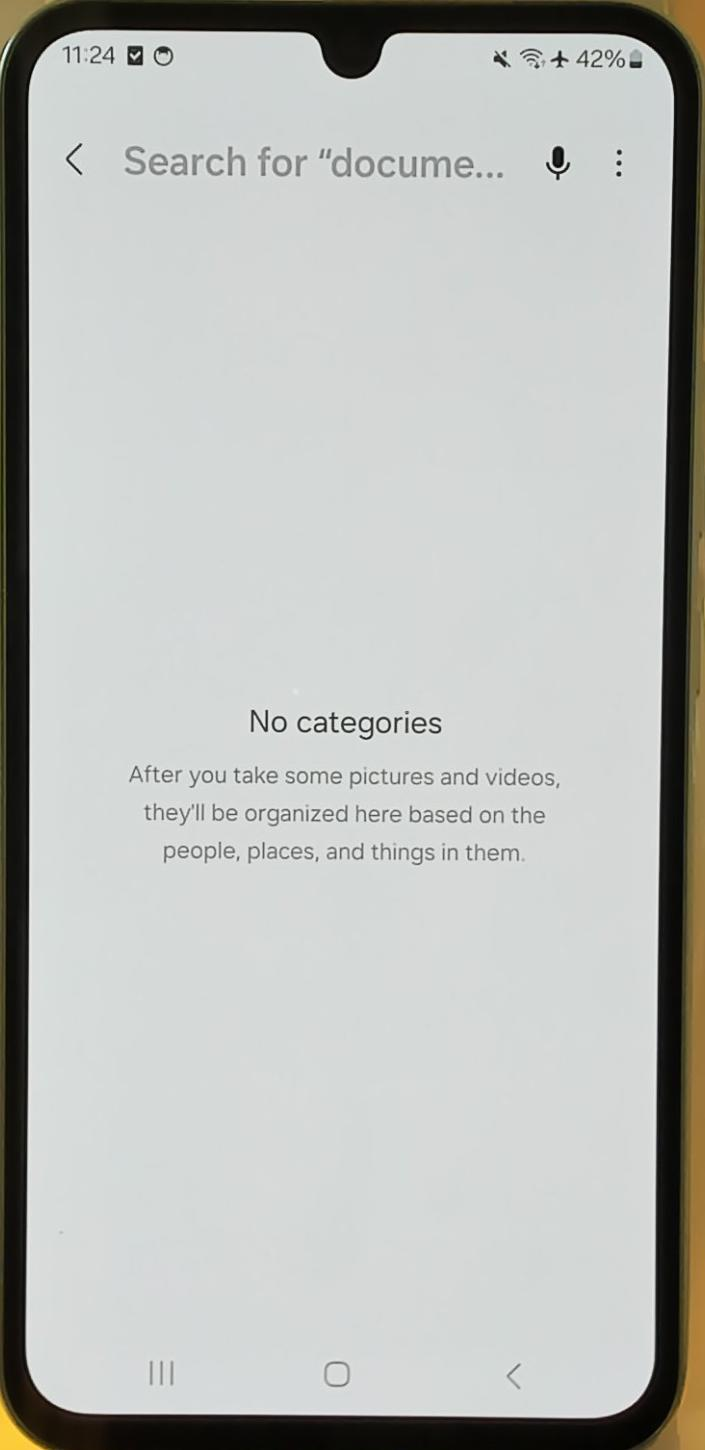CommunBotton: (126, 1332, 194, 1396), (492, 1338, 552, 1402), (308, 1344, 372, 1400), (54, 116, 94, 188), (532, 138, 580, 194)
TextField: (112, 128, 540, 200)
menu: (610, 138, 644, 180)
